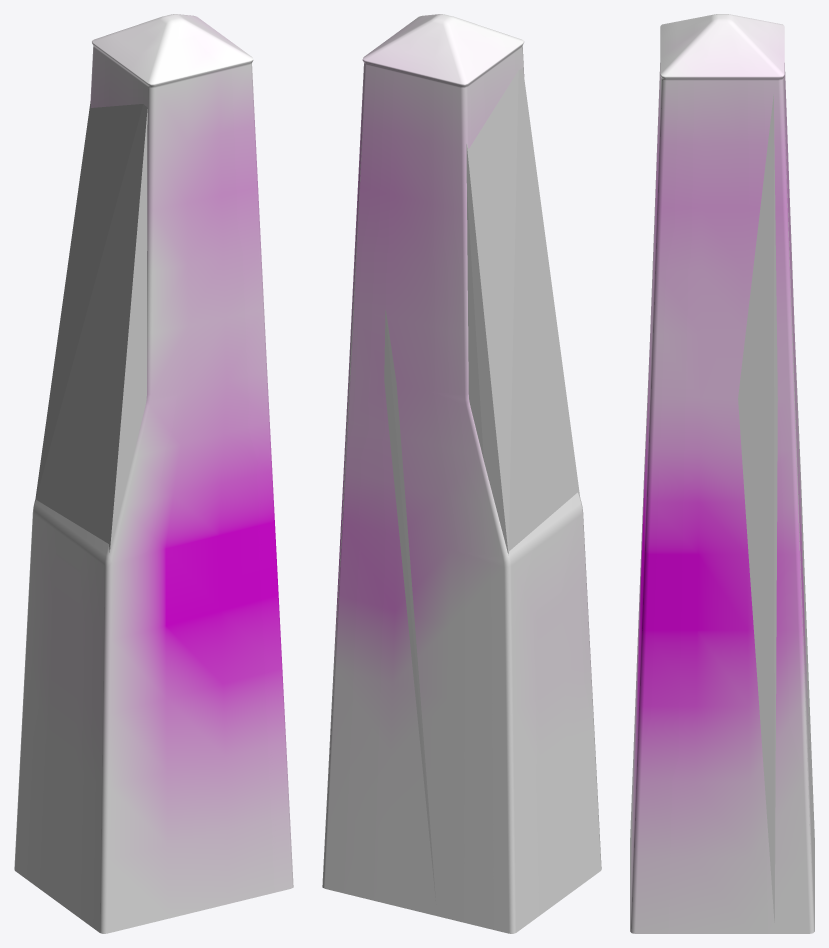
File: SM_PillarEntry.fbx
3 renders of one model, left to right at view 1: azimuth 30°, elevation 25°; view 2: azimuth 150°, elevation 25°; view 3: azimuth 270°, elevation 25°, orthographic. The views are drawn at different scales.
Parts seen in each view (by area): view 1: SM_PillarEntry, SM_PillarEntry_ConvexHulls; view 2: SM_PillarEntry, SM_PillarEntry_ConvexHulls; view 3: SM_PillarEntry, SM_PillarEntry_ConvexHulls.
Part boxes in pixels (x1,y1,x2,y2): SM_PillarEntry: (14,14,293,933); SM_PillarEntry_ConvexHulls: (35,101,147,552); SM_PillarEntry: (322,14,601,933); SM_PillarEntry_ConvexHulls: (325,68,580,904); SM_PillarEntry: (630,14,814,933); SM_PillarEntry_ConvexHulls: (738,94,812,922).
Bounding box in the file's own units: 69.52 × 56.12 × 294.
